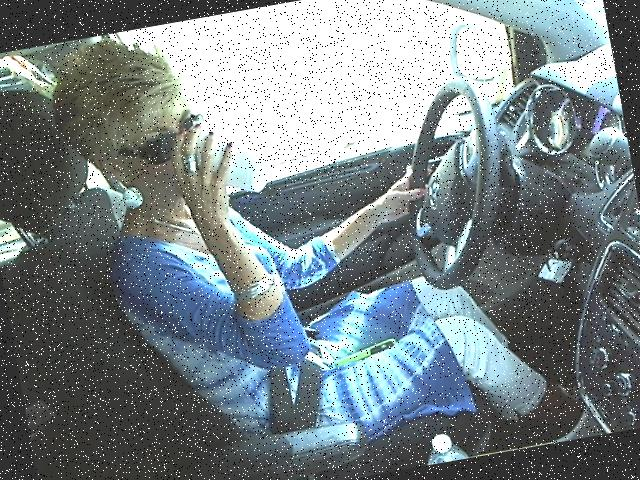c4 - Drinking: (37, 0, 555, 409)
